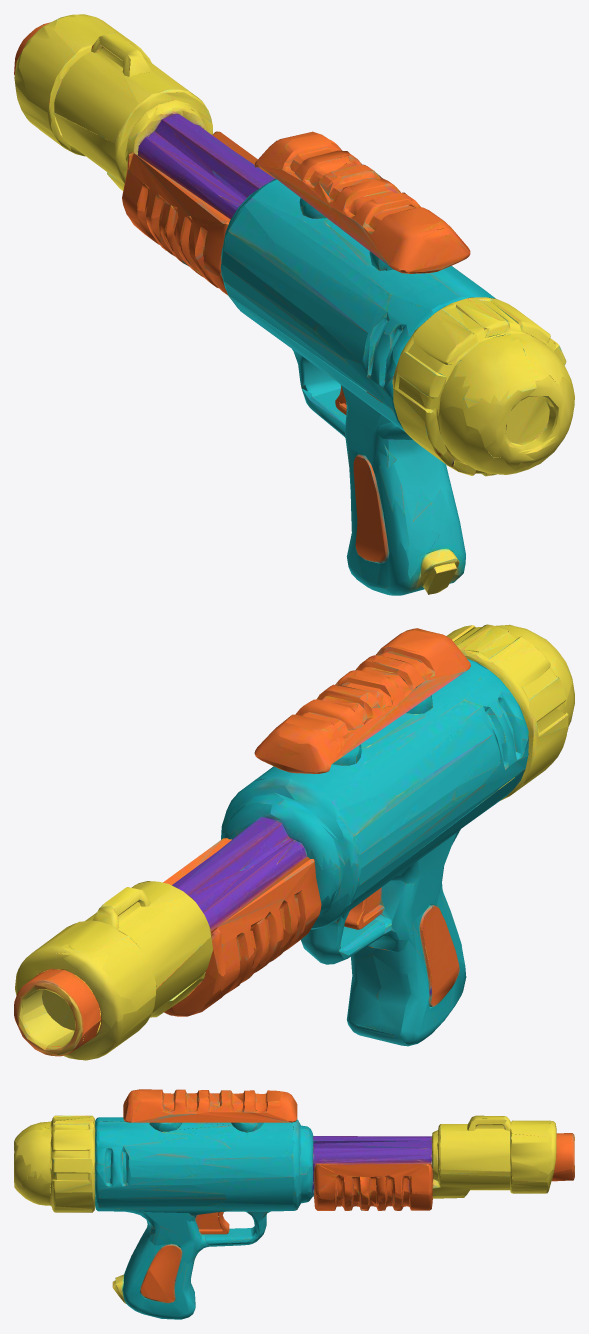
The model's file is lancia_opzione2.gltf.
The picture shows the model from 3 angles, top to bottom: view 1: azimuth 30°, elevation 25°; view 2: azimuth 150°, elevation 25°; view 3: azimuth 270°, elevation 25°; orthographic projection. The views are drawn at different scales.
Parts seen in each view (by area): view 1: Lancia; view 2: Lancia; view 3: Lancia.
Boxes of the visible parts, x1,y1,x2,y2 form: Lancia: (14,14,574,595); Lancia: (14,624,574,1060); Lancia: (14,1089,574,1319).
Bounding box in the file's own units: 0.0961 × 0.2414 × 0.56.
Materials: 1 (1 with a texture image).
